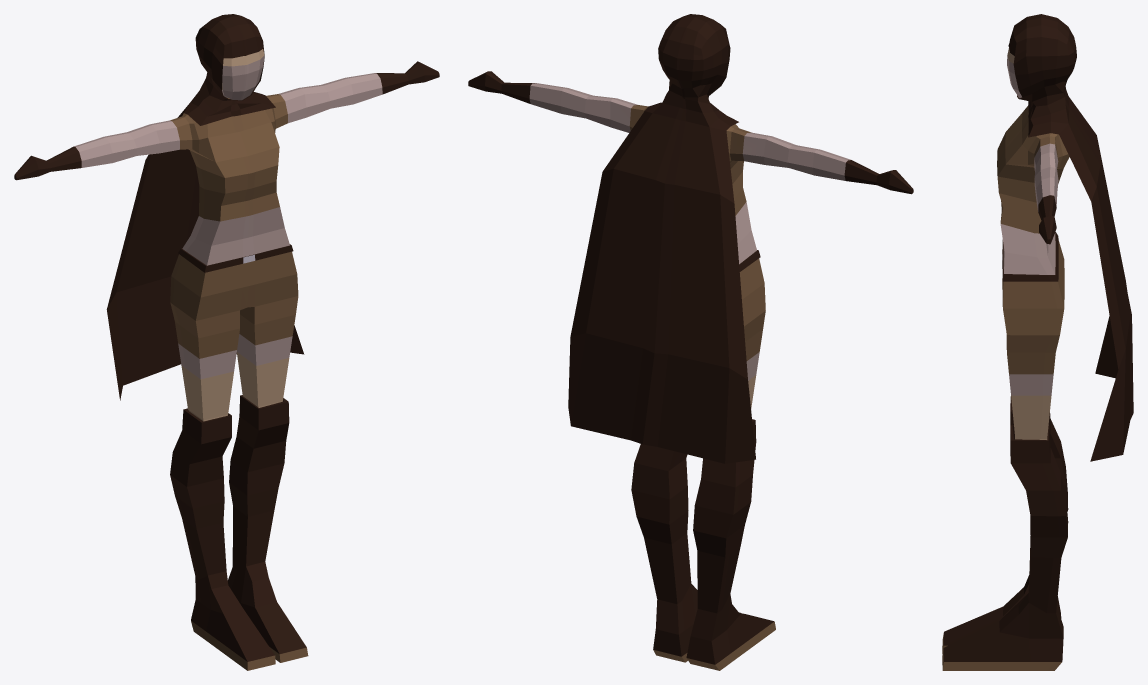
File: MODEL_Rogue.fbx
The picture shows the model from 3 angles, left to right: view 1: azimuth 30°, elevation 25°; view 2: azimuth 150°, elevation 25°; view 3: azimuth 270°, elevation 25°; orthographic projection. The views are drawn at different scales.
Parts seen in each view (by area): view 1: rogueBody, rogueShoes, rogueHood; view 2: rogueHood, rogueShoes, rogueBody; view 3: rogueBody, rogueHood, rogueShoes.
Part boxes in pixels (left/top/right/bottom): rogueBody: left=14, top=49, right=439, bottom=421; rogueShoes: left=170, top=395, right=308, bottom=670; rogueHood: left=106, top=14, right=304, bottom=400; rogueHood: left=568, top=14, right=755, bottom=463; rogueShoes: left=631, top=419, right=775, bottom=670; rogueBody: left=468, top=71, right=913, bottom=409; rogueBody: left=997, top=47, right=1069, bottom=439; rogueHood: left=1008, top=14, right=1133, bottom=461; rogueShoes: left=942, top=396, right=1068, bottom=670.
Bounding box in the file's own units: 1749 × 2418 × 657.
Materials: 1 (1 with a texture image).
